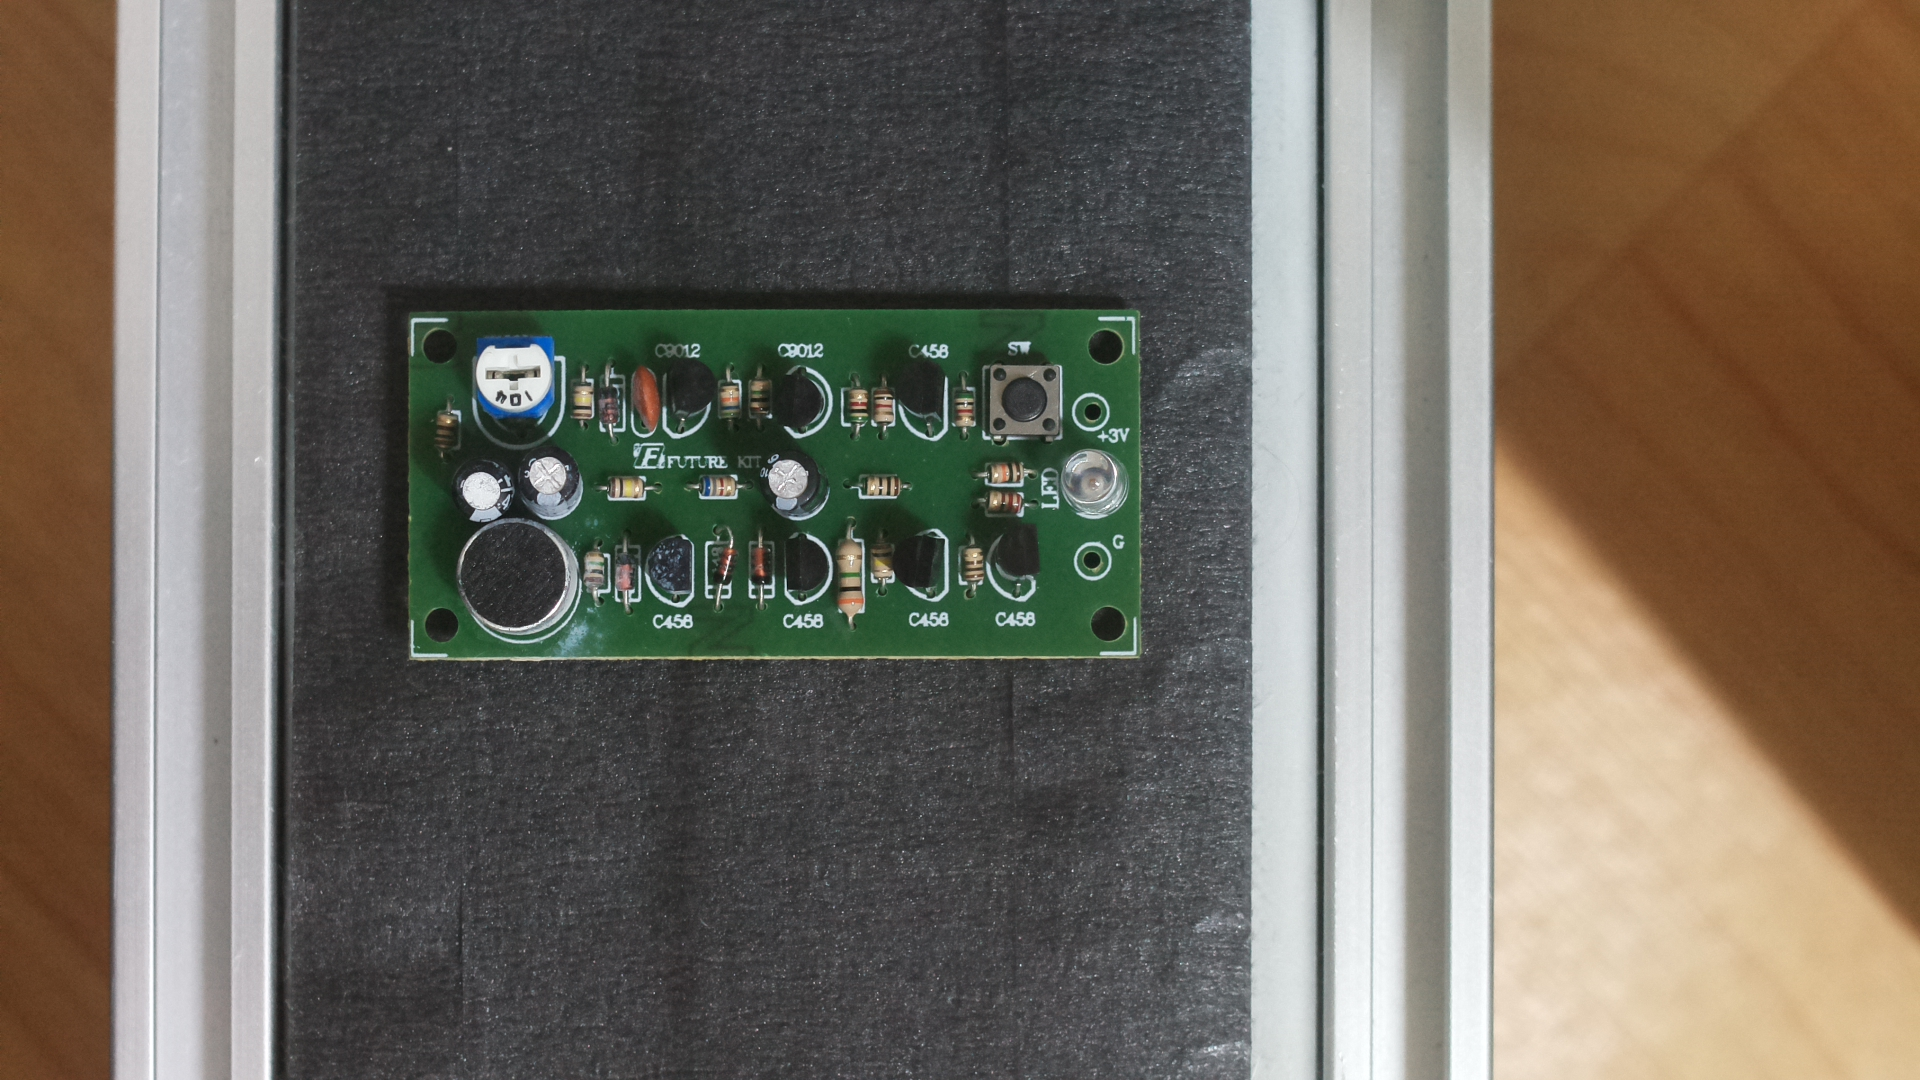A_Normal: (400, 297, 1154, 686)
